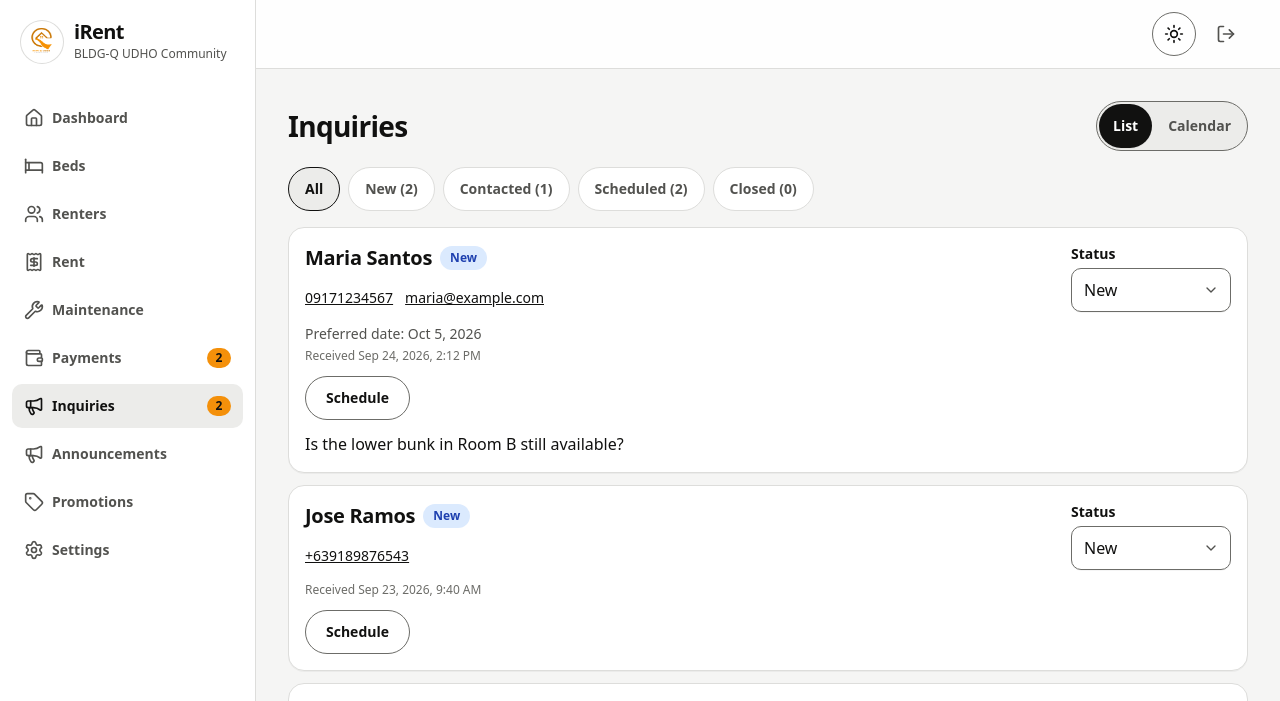
Test case: AdminInquiriesPage (F20, R40, SC-41) › changes a status optimistically and the new badge goes from 2 to 1 (SC-41 step 2)
The width and height of the screenshot is (1280, 701).
Expected: the heading "Maria Santos" is shown, [305,244,432,272]
Expected: the link "Inquiries 2" is shown, [12,384,243,428]
Select "Scheduled" in the dropdown labelled "Status" in the row of "maria@example.com": (1151, 290) [1071,268,1231,312]
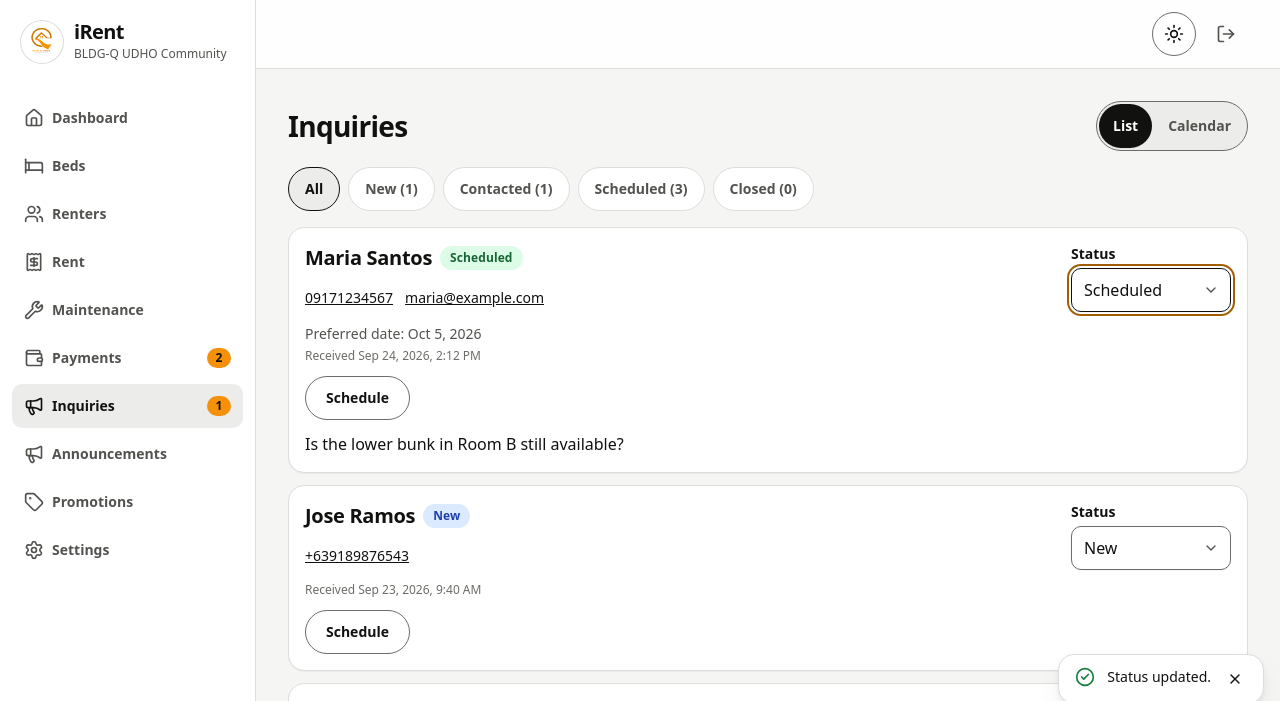
Result: the text "Scheduled" is shown at [440,246,522,270]
Result: the button "New (1)" is shown at [348,167,435,211]
Result: the text "Status updated." is shown at [1107,667,1211,687]
